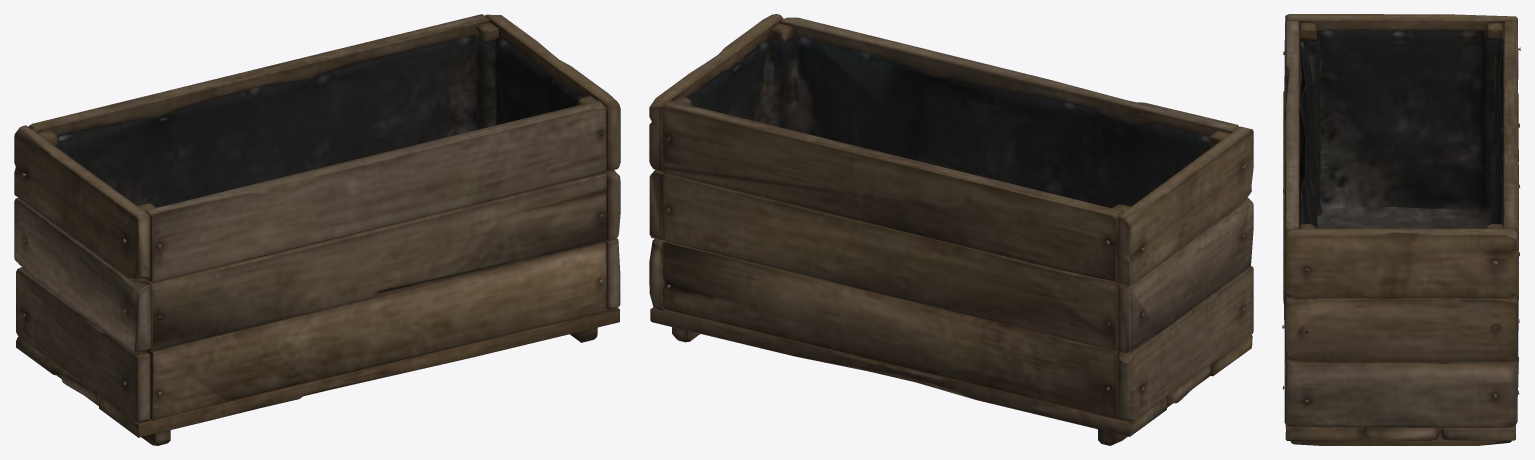
Rendered from planter.glb.
3 renders of one model, left to right at view 1: azimuth 30°, elevation 25°; view 2: azimuth 150°, elevation 25°; view 3: azimuth 270°, elevation 25°, orthographic. The views are drawn at different scales.
Parts seen in each view (by area): view 1: planter_box_01; view 2: planter_box_01; view 3: planter_box_01.
Boxes of the visible parts, x1=… form: planter_box_01: x1=14, y1=14, x2=620, y2=445; planter_box_01: x1=649, y1=14, x2=1253, y2=445; planter_box_01: x1=1282, y1=14, x2=1520, y2=445.
Size of the model in its own units: 0.9126 by 0.4253 by 0.4137.
1 material, 1 textured.
